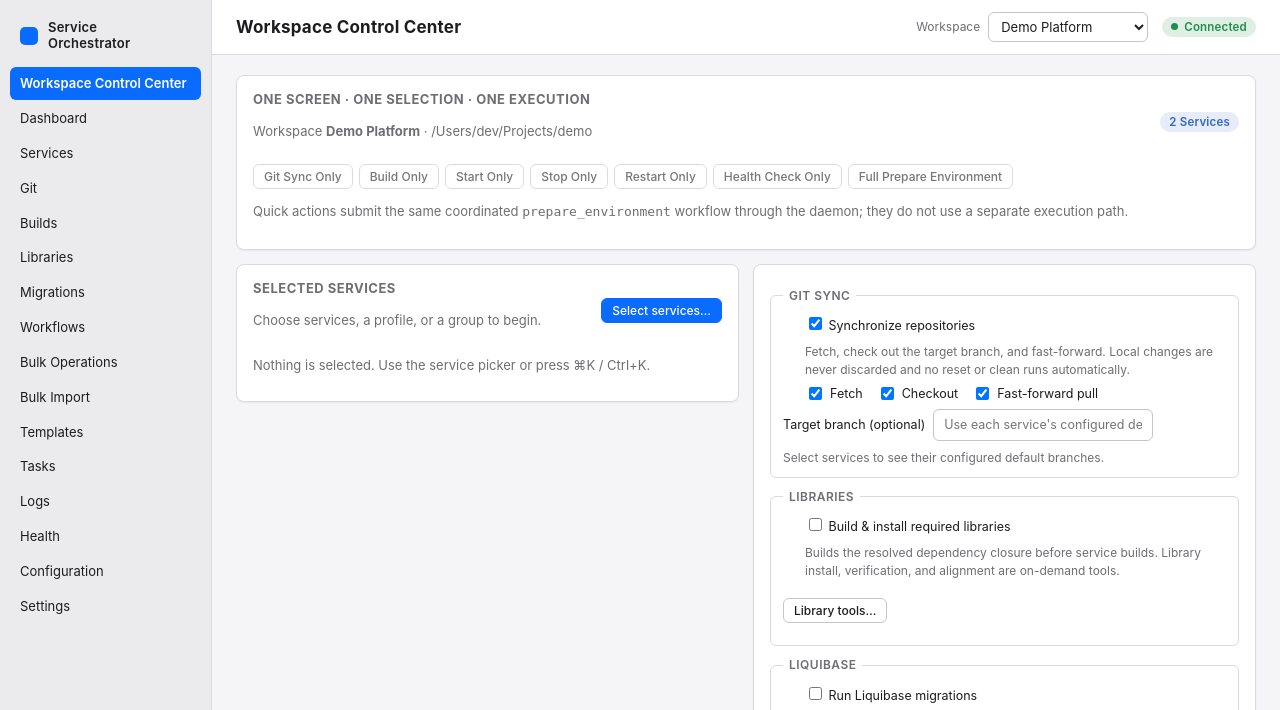
Test: service selection › supports selecting every visible service on request
Click the button "Workflows": (106, 328) top-left (10, 311), bottom-right (201, 344)
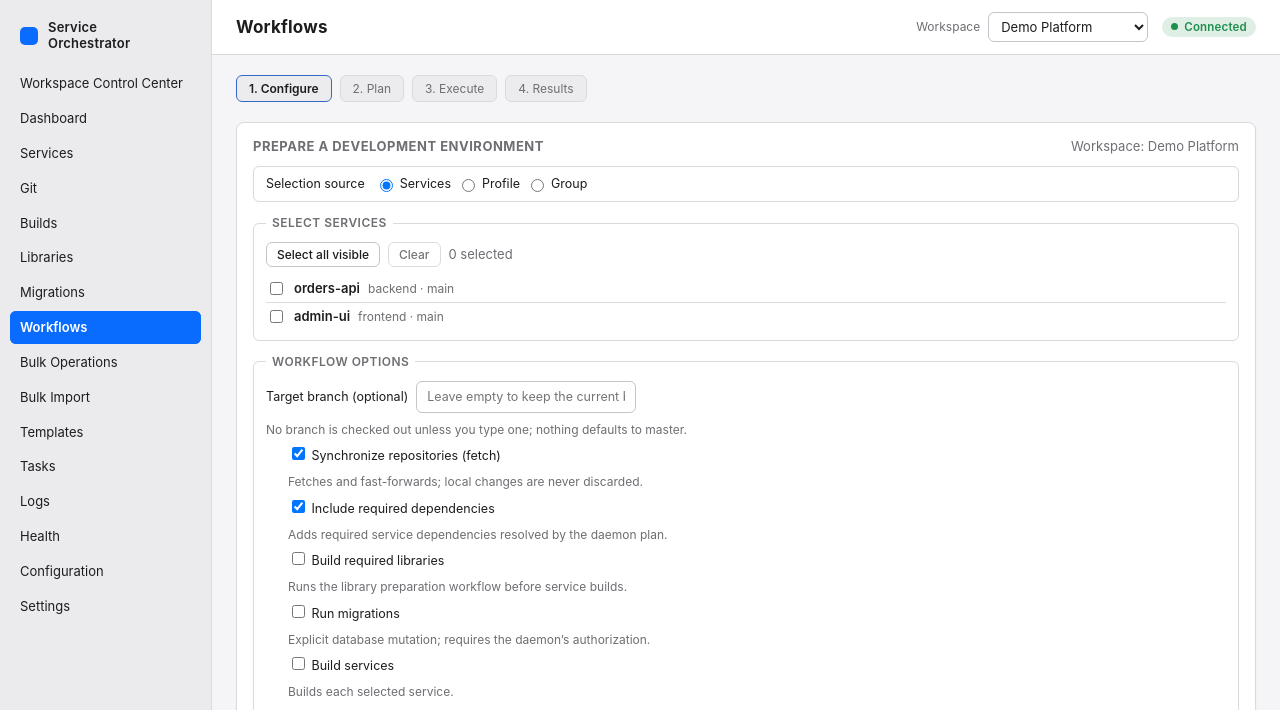
Result: the heading "Prepare a development environment" is shown at top-left (253, 137), bottom-right (544, 156)
Click the button "Select all visible": (323, 254) top-left (266, 242), bottom-right (380, 267)
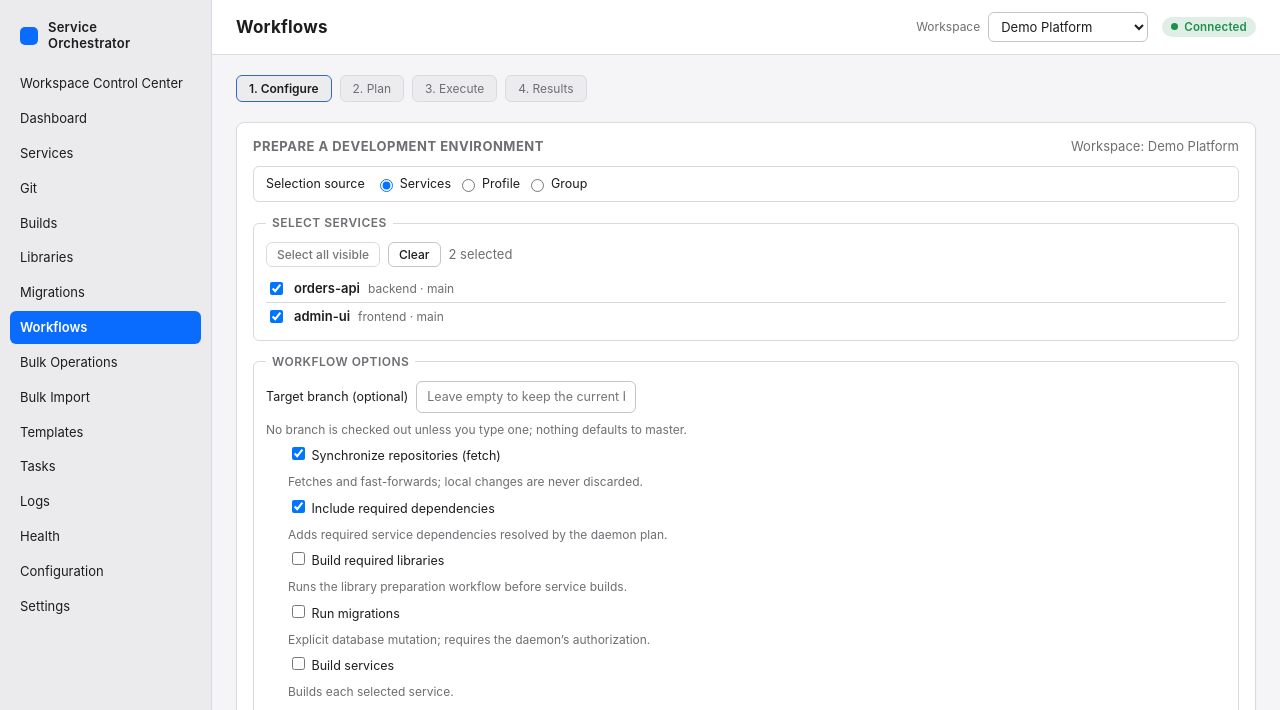
Result: the checkbox named "Select orders-api" is checked at top-left (270, 282), bottom-right (283, 295)
Result: the checkbox named "Select admin-ui" is checked at top-left (270, 310), bottom-right (283, 323)
Result: the text "2 selected" is shown at top-left (448, 245), bottom-right (512, 264)
